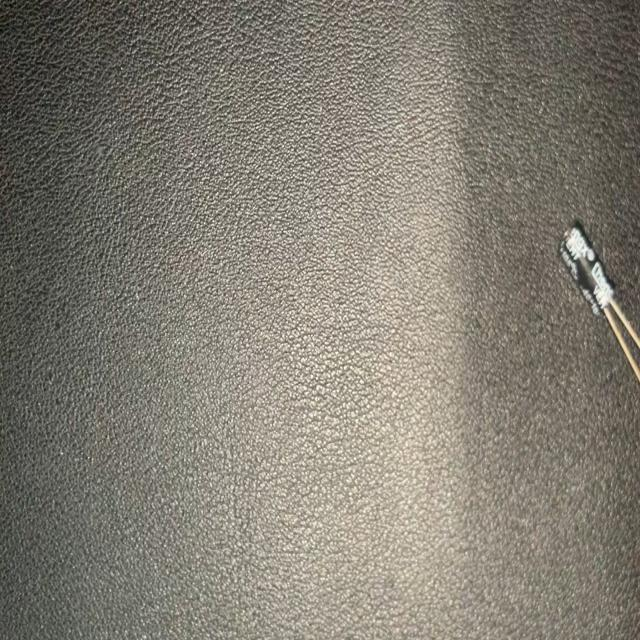capacitor: (557, 218, 640, 382)
